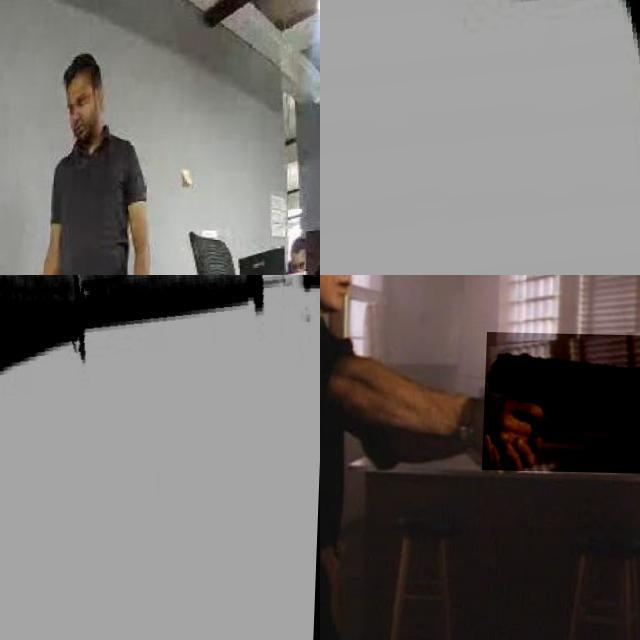gun-knife-thesis - v11 Yolov5 augmented: (0, 275, 320, 640), (320, 0, 640, 275), (485, 330, 640, 471)
